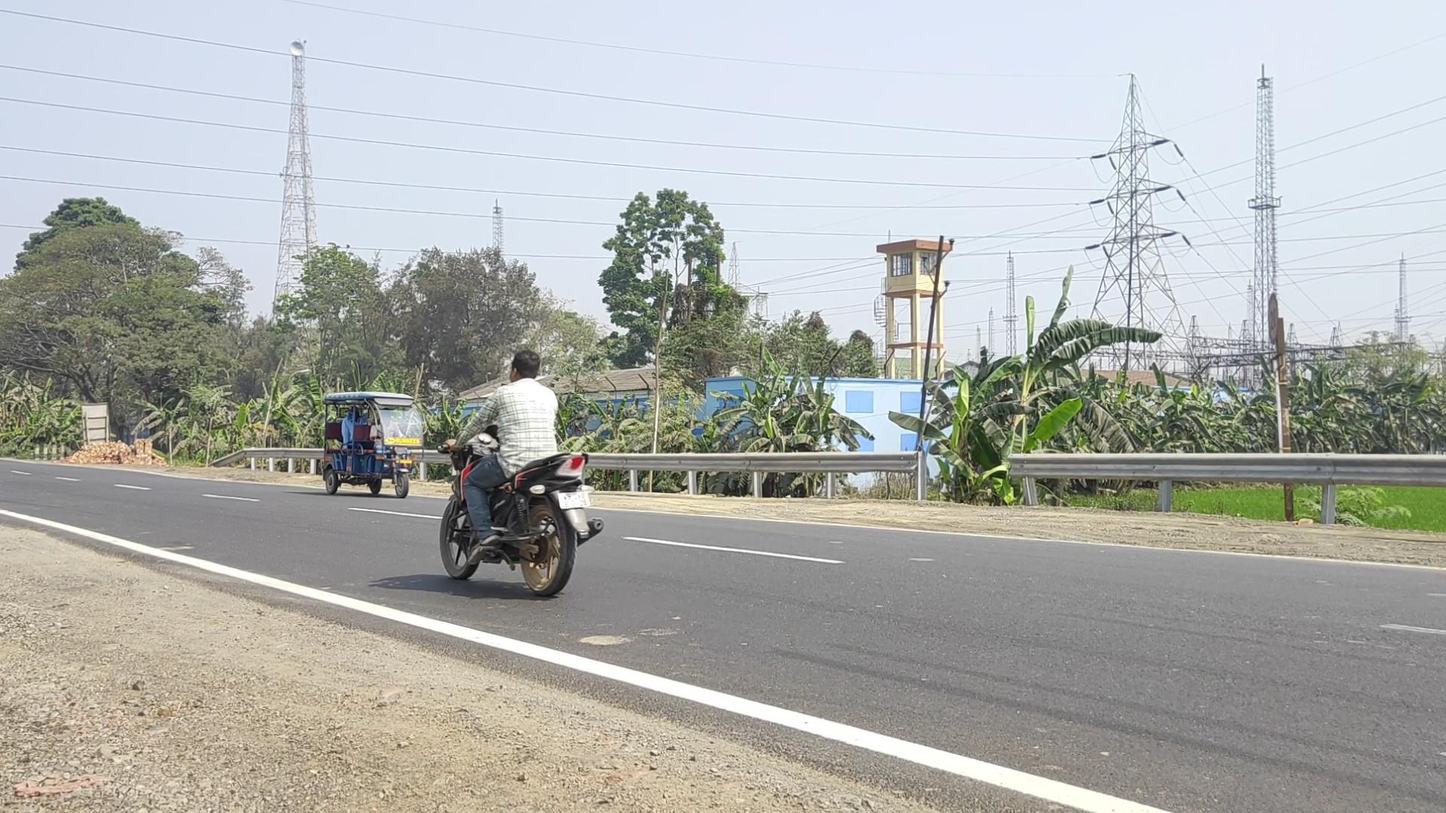Auto: (323, 390, 423, 499)
bike: (438, 351, 605, 597)
